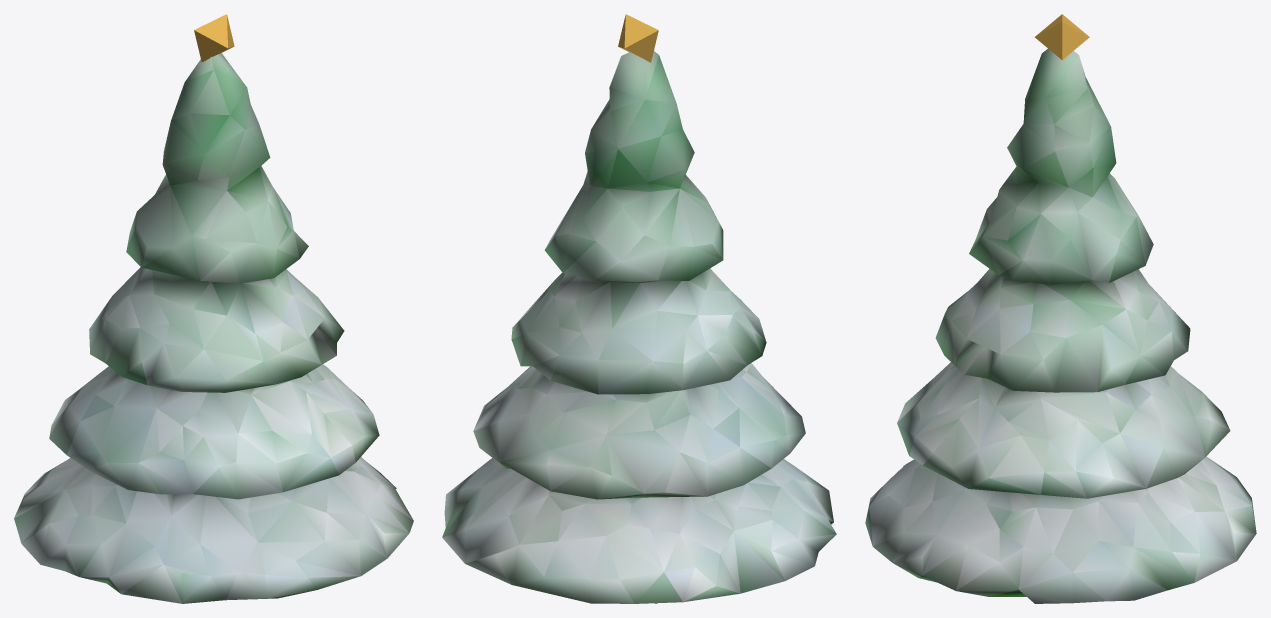
The model's file is frost_toy_tree_lod2.glb.
3 views of the same model, side by side, from view 1: azimuth 30°, elevation 25°; view 2: azimuth 150°, elevation 25°; view 3: azimuth 270°, elevation 25° (orthographic).
Visible parts, largest first — view 1: frost_toy_tree.001; view 2: frost_toy_tree.001; view 3: frost_toy_tree.001.
Part boxes in pixels (box(x1,y1,x2,y2)): frost_toy_tree.001: box(14, 14, 413, 603); frost_toy_tree.001: box(442, 14, 836, 603); frost_toy_tree.001: box(865, 14, 1256, 603).
Bounding box in the file's own units: 19.72 × 29.77 × 19.22.
